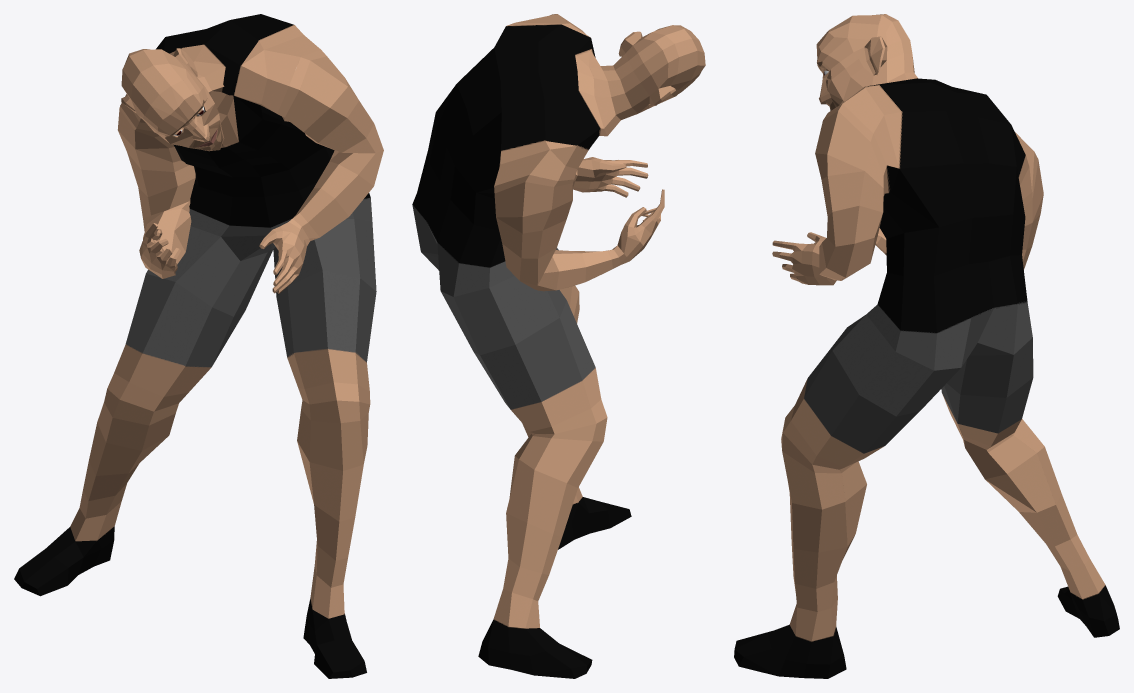
Rendered from PlayerDead(10).obj.
The picture shows the model from 3 angles, left to right: view 1: azimuth 30°, elevation 25°; view 2: azimuth 150°, elevation 25°; view 3: azimuth 270°, elevation 25°; orthographic projection. The views are drawn at different scales.
Parts seen in each view (by area): view 1: Plane002; view 2: Plane002; view 3: Plane002.
Part boxes in pixels (x1,y1,x2,y2): Plane002: (14, 14, 383, 678); Plane002: (412, 14, 705, 678); Plane002: (734, 14, 1119, 678).
Bounding box in the file's own units: 649 × 1434 × 852.
